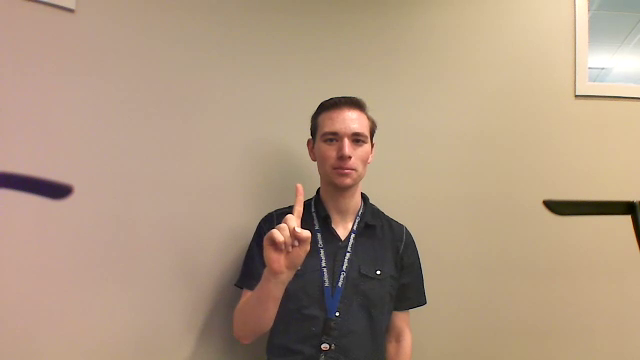up: (253, 180, 311, 283)
